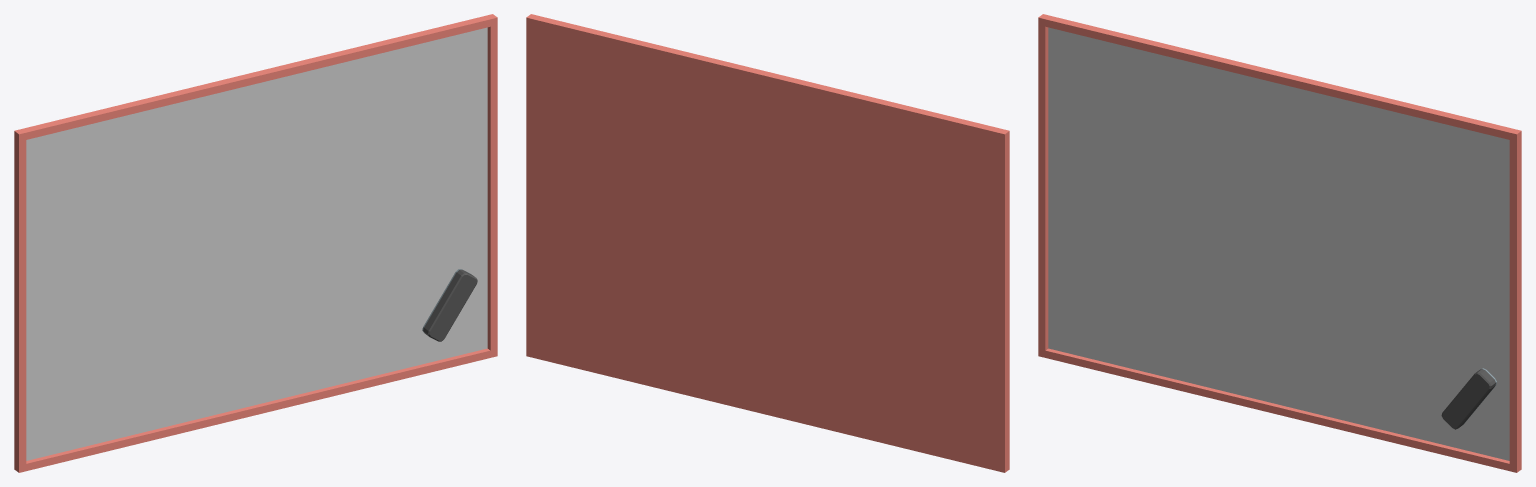
File: Whiteboard1.glb
3 views of the same model, side by side, from view 1: azimuth 30°, elevation 25°; view 2: azimuth 150°, elevation 25°; view 3: azimuth 330°, elevation 25° (orthographic).
Visible parts, largest first — view 1: White_board_Cube.045, White_board.001_Cube.026; view 2: White_board_Cube.045; view 3: White_board_Cube.045, White_board.001_Cube.026.
Part boxes in pixels (x1,y1,x2,y2): White_board_Cube.045: (14, 14, 497, 472); White_board.001_Cube.026: (422, 269, 477, 341); White_board_Cube.045: (526, 14, 1009, 472); White_board_Cube.045: (1038, 14, 1521, 472); White_board.001_Cube.026: (1441, 368, 1496, 429).
Bounding box in the file's own units: 9.96 × 6.73 × 0.2969.
